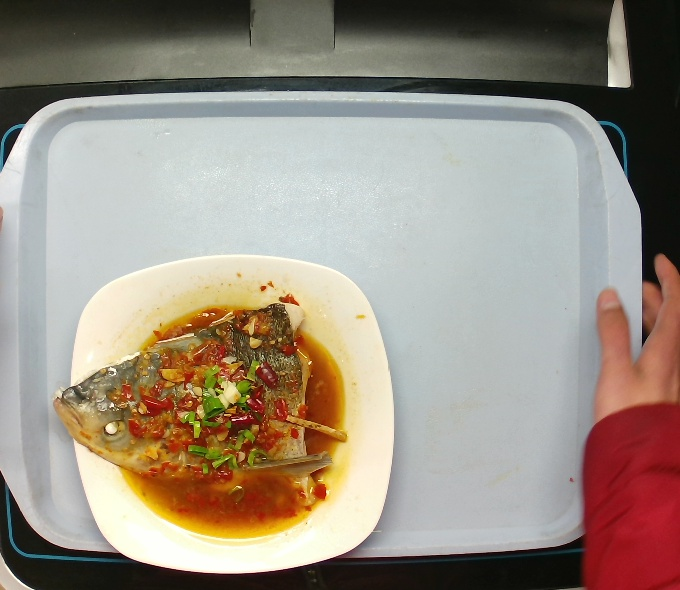wcq-DuoJiaoYuTou: (46, 283, 342, 550)
